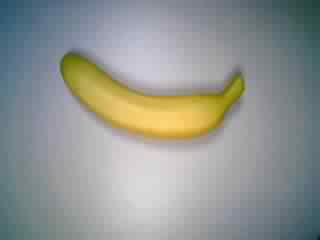banana: (56, 45, 254, 148)
